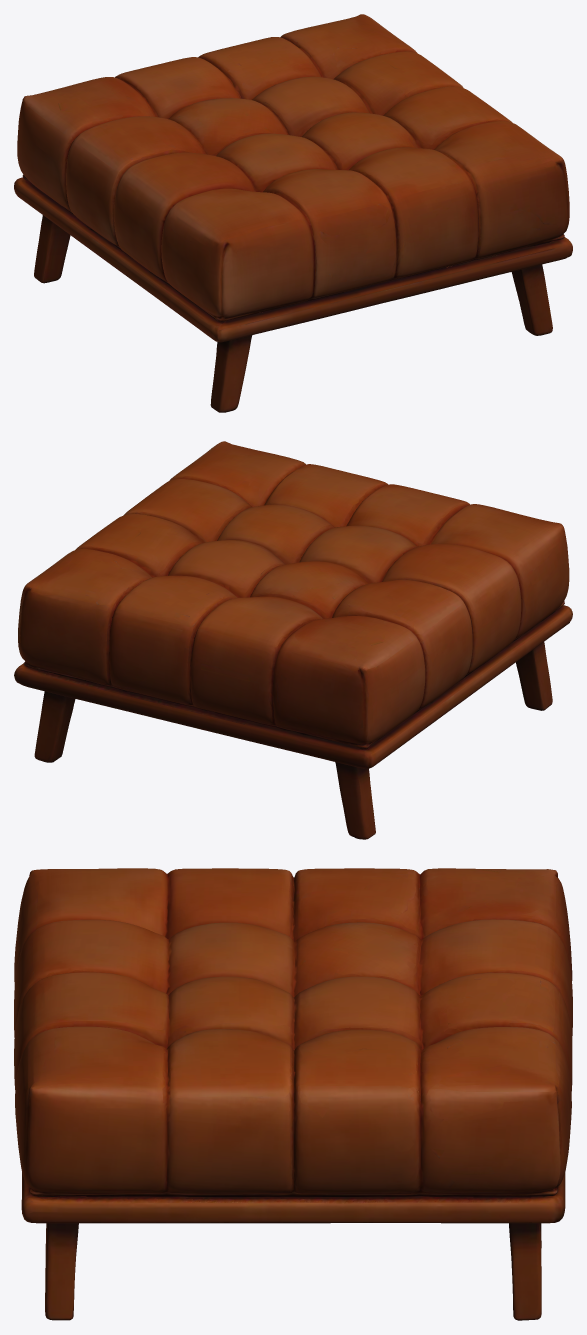
3 renders of one model, top to bottom at view 1: azimuth 30°, elevation 25°; view 2: azimuth 150°, elevation 25°; view 3: azimuth 270°, elevation 25°, orthographic. The views are drawn at different scales.
Visible parts, largest first — view 1: geometry_0; view 2: geometry_0; view 3: geometry_0.
Part boxes in pixels (x1,y1,x2,y2): geometry_0: [14, 14, 572, 412]; geometry_0: [14, 441, 572, 839]; geometry_0: [14, 868, 572, 1320].
Size of the model in its own units: 0.9991 by 0.4916 by 0.9992.
Materials: 1 (1 with a texture image).
